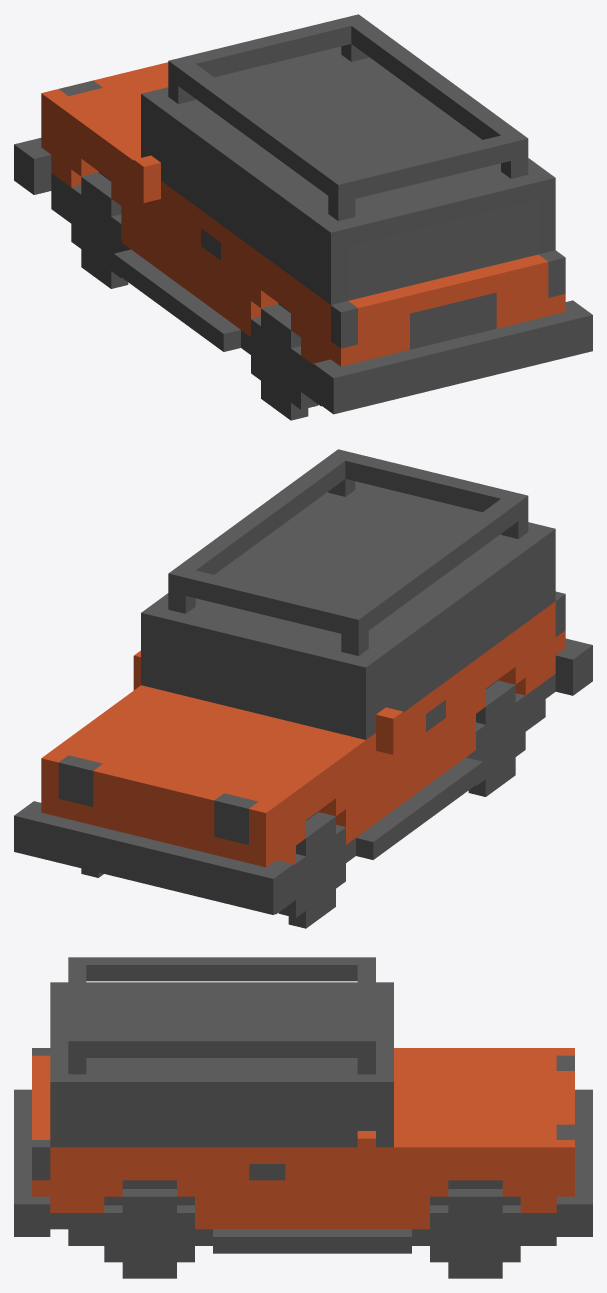
Rendered from veh_suv1.obj.
The picture shows the model from 3 angles, top to bottom: view 1: azimuth 30°, elevation 25°; view 2: azimuth 150°, elevation 25°; view 3: azimuth 270°, elevation 25°; orthographic projection. The views are drawn at different scales.
Size of the model in its own units: 15 by 14 by 32.
